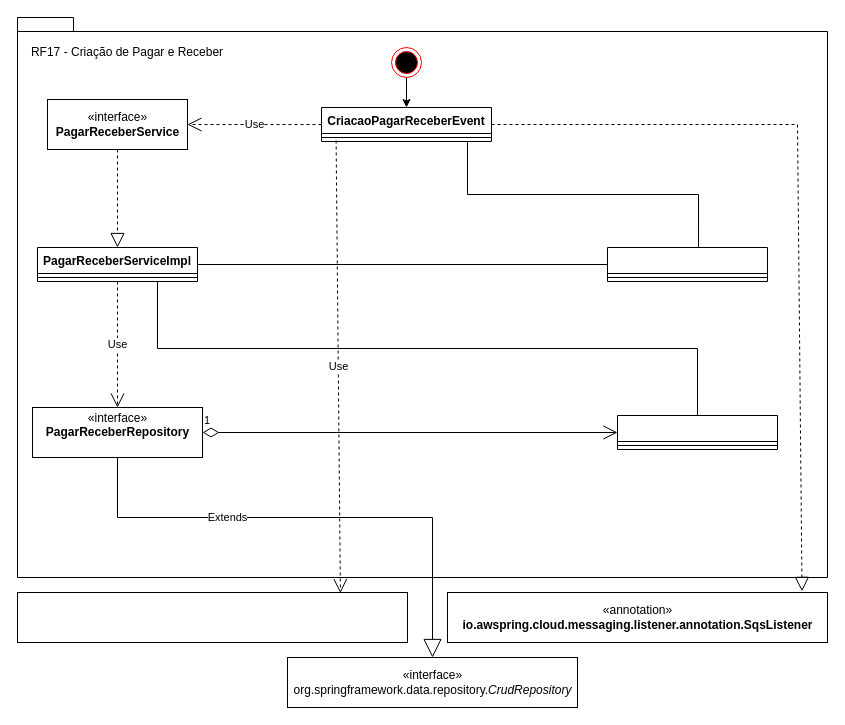
Image size: 845x725. Some labels were removed from this diagram. The shapes that lost their labels are listed below. From the top down, each one's centre as x and y in pixels, then its label:
At point 687,264: "PagarReceberDto".
At point 697,432: "PagarReceber".
At point 212,617: "«interface» io.awspring.cloud.messaging.core.NotificationMessagingTemplate".
